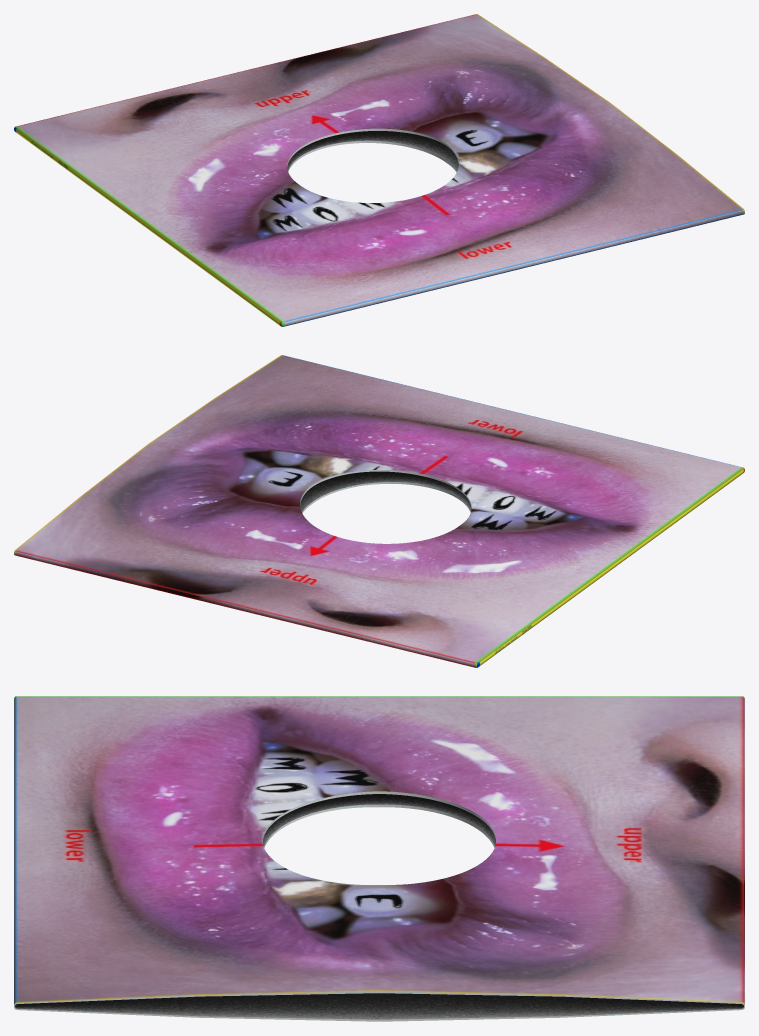
The model's file is sleeve_12_holed_3mm.dae.
The picture shows the model from 3 angles, top to bottom: view 1: azimuth 30°, elevation 25°; view 2: azimuth 150°, elevation 25°; view 3: azimuth 270°, elevation 25°; orthographic projection. The views are drawn at different scales.
Parts seen in each view (by area): view 1: sleeve_hole_焼成後tex読み込み_見え方確認; view 2: sleeve_hole_焼成後tex読み込み_見え方確認; view 3: sleeve_hole_焼成後tex読み込み_見え方確認.
Boxes of the visible parts, bbox=[...] form: sleeve_hole_焼成後tex読み込み_見え方確認: bbox=[14, 14, 744, 326]; sleeve_hole_焼成後tex読み込み_見え方確認: bbox=[14, 355, 744, 667]; sleeve_hole_焼成後tex読み込み_見え方確認: bbox=[14, 696, 744, 1021].
Size of the model in its own units: 31.18 by 1.45 by 31.3.
1 material, 1 textured.
